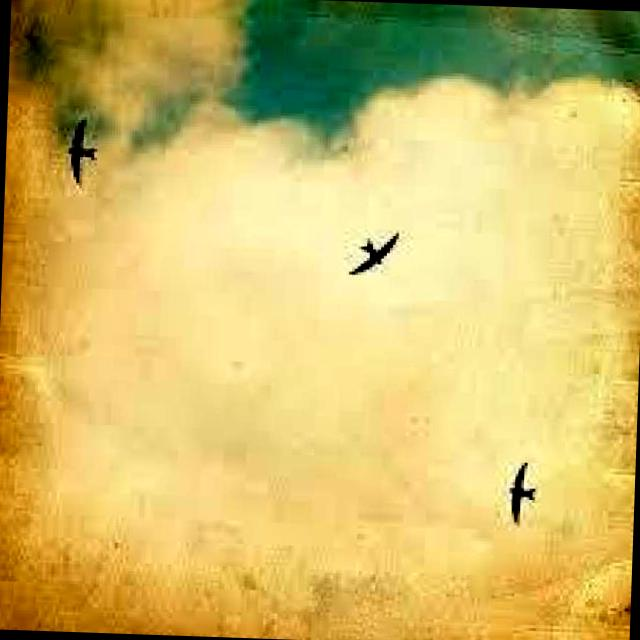bird: (62, 112, 102, 188), (350, 223, 400, 280), (502, 456, 540, 526)
